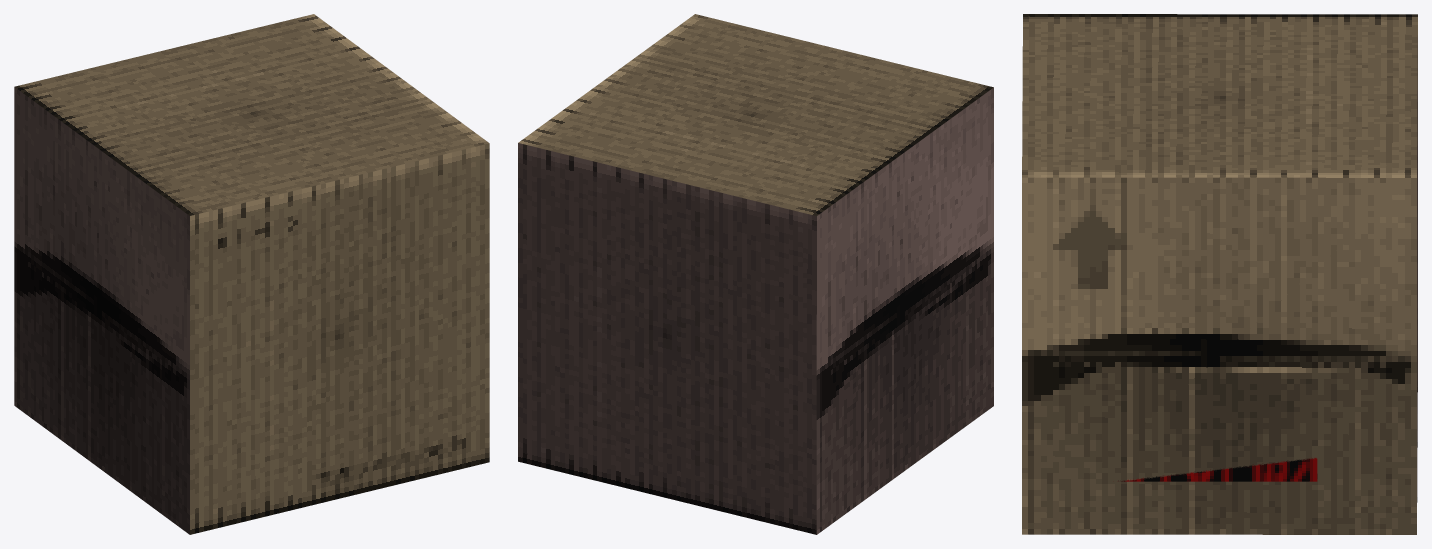
Rendered from primary_245.glb.
3 renders of one model, left to right at view 1: azimuth 30°, elevation 25°; view 2: azimuth 150°, elevation 25°; view 3: azimuth 270°, elevation 25°, orthographic. The views are drawn at different scales.
Parts seen in each view (by area): view 1: Object; view 2: Object; view 3: Object.
Part boxes in pixels (x1=…): Object: x1=14, y1=14, x2=489, y2=534; Object: x1=518, y1=14, x2=993, y2=534; Object: x1=1022, y1=14, x2=1417, y2=534.
Bounding box in the file's own units: 1.08 × 1.09 × 1.1.
7 materials, 7 textured.
